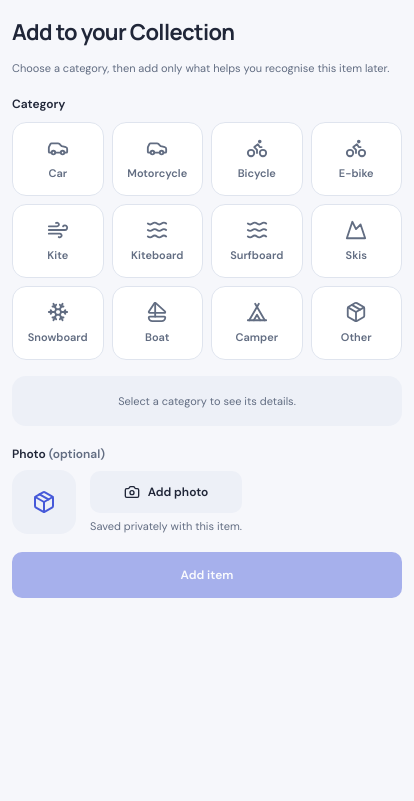
Test: refuses to save an item with no name, brand or model
Click the button "Kite": (58, 241) [12, 204, 104, 278]
(page scrolled)
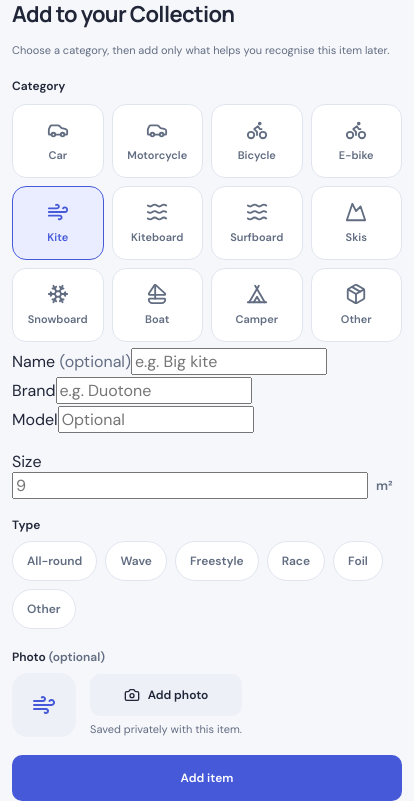
Click the button "Add item": (207, 778) [12, 755, 402, 800]
(page scrolled)
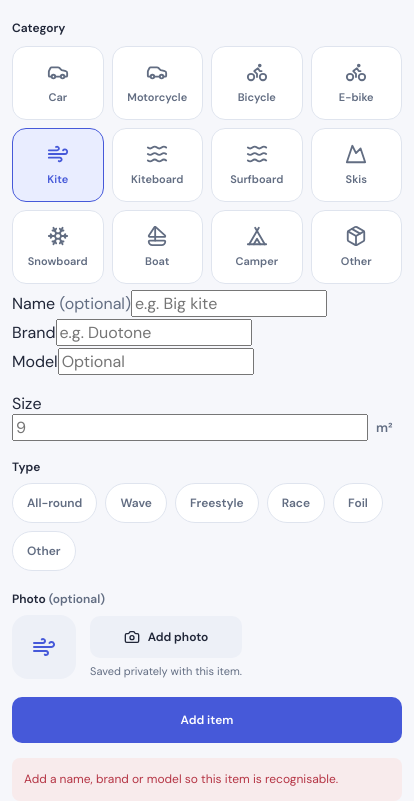
Check: the message shows "Add a name, brand or model", box [24, 771, 338, 787]
